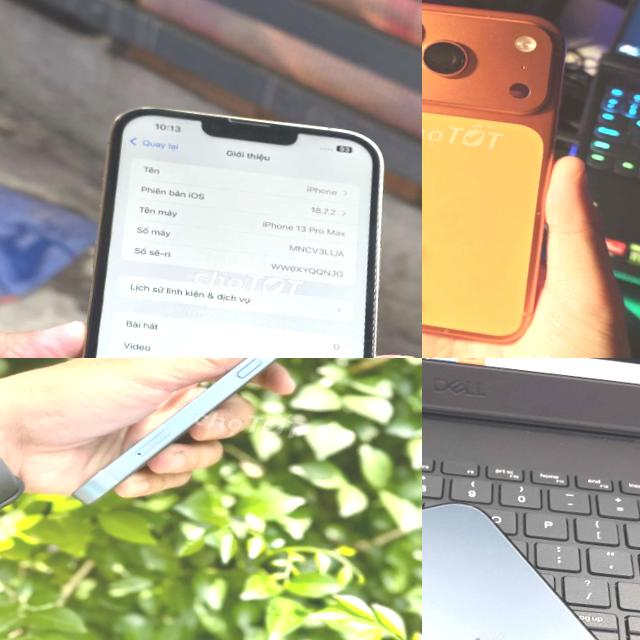gen_12_13: (46, 93, 422, 358), (422, 475, 640, 640)
gen_14: (67, 358, 365, 548)
gen_17: (422, 0, 597, 358)
